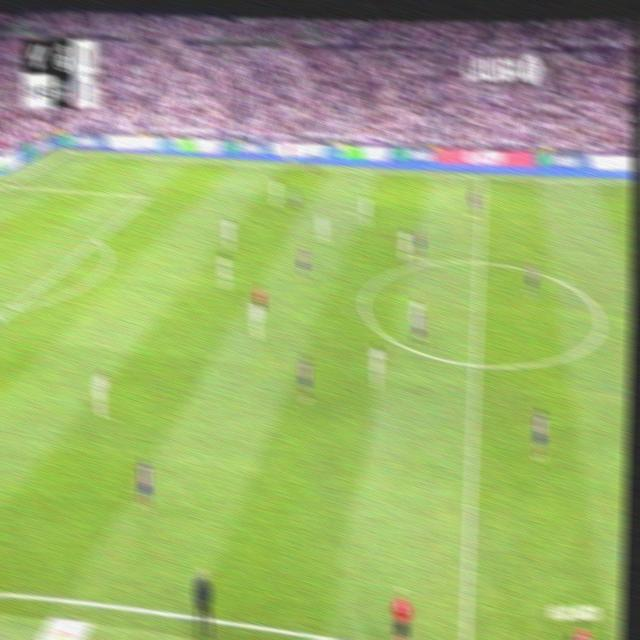bigarea_top_inner: (140, 188, 151, 204)
bigarea_top_outter: (2, 176, 13, 189)
bottom_arc_area_intersection: (8, 297, 22, 314)
corner: (61, 146, 71, 156)
halfcircle_bottom: (468, 350, 484, 377)
halfcircle_top: (472, 248, 488, 273)
midline_top_intersection: (477, 170, 489, 185)
top_arc_area_intersection: (90, 231, 102, 246)
